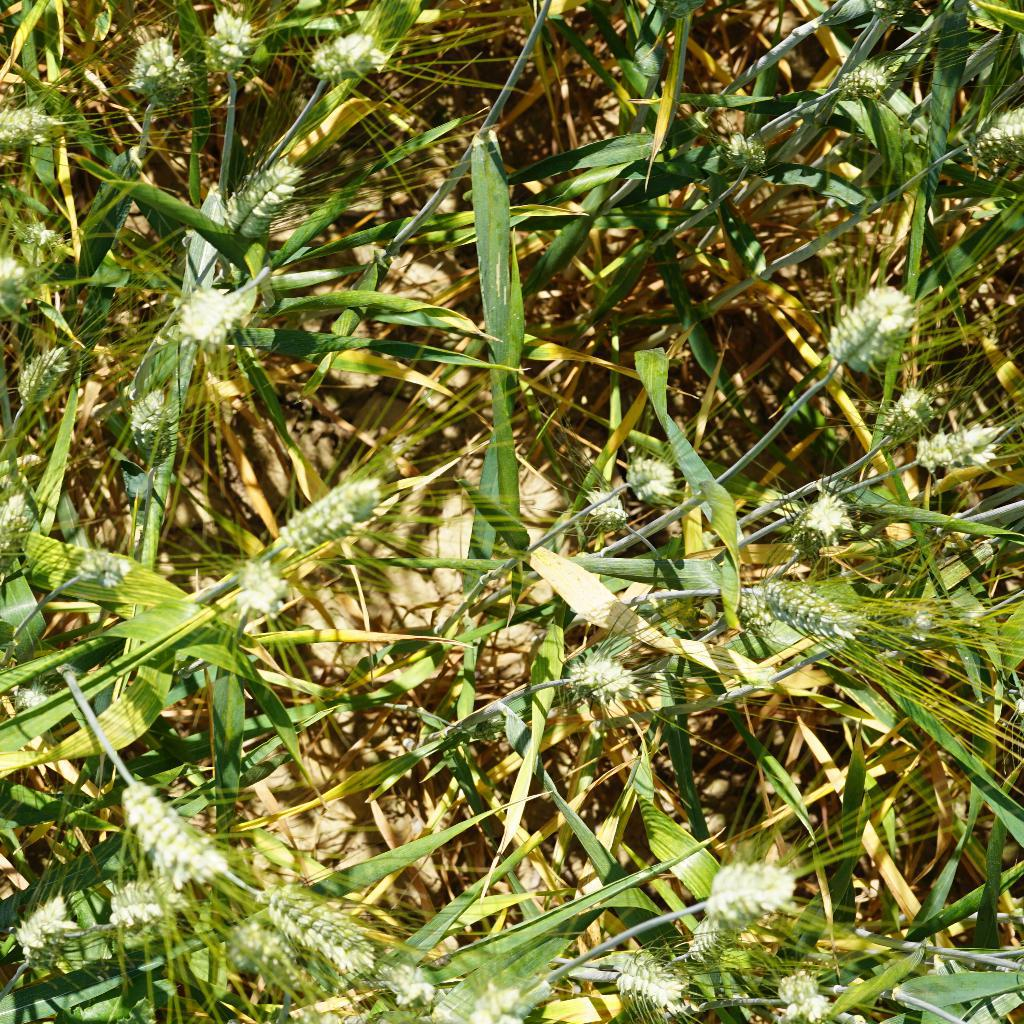0-0: (108, 770, 234, 892), (799, 271, 922, 377), (253, 879, 378, 980), (266, 468, 395, 564), (822, 585, 960, 660), (694, 838, 814, 922), (212, 152, 310, 252), (750, 574, 866, 650), (94, 869, 200, 935), (206, 900, 284, 989), (1, 889, 80, 976), (126, 377, 193, 477), (907, 408, 998, 481), (748, 960, 849, 1024), (118, 24, 196, 106), (163, 271, 247, 347), (612, 949, 691, 1024), (53, 538, 142, 604), (553, 645, 647, 706), (197, 4, 260, 94), (303, 26, 383, 90), (828, 43, 905, 109), (681, 901, 750, 974), (0, 485, 49, 586), (961, 94, 1024, 172), (215, 557, 288, 624), (0, 103, 74, 168), (867, 378, 935, 445), (272, 976, 366, 1024), (621, 438, 684, 508), (373, 961, 448, 1019), (12, 337, 73, 408), (796, 490, 862, 555), (448, 975, 537, 1021), (713, 118, 772, 180), (717, 584, 783, 637), (10, 212, 77, 264), (3, 674, 68, 725), (578, 466, 627, 533), (0, 251, 32, 332), (463, 713, 516, 742)
